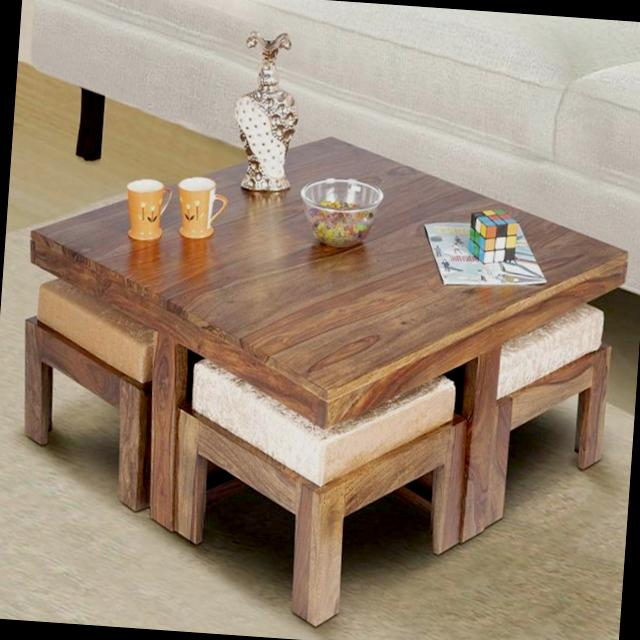obstacle: (0, 117, 625, 625)
